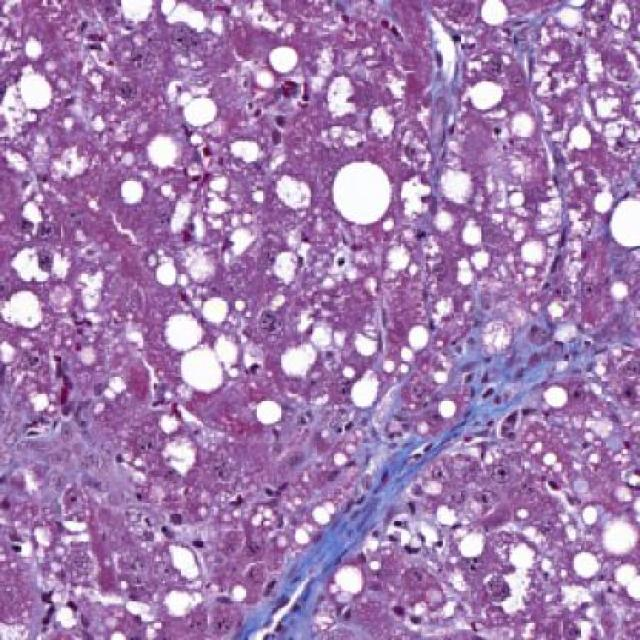fibrosis: (383, 314, 605, 472)
